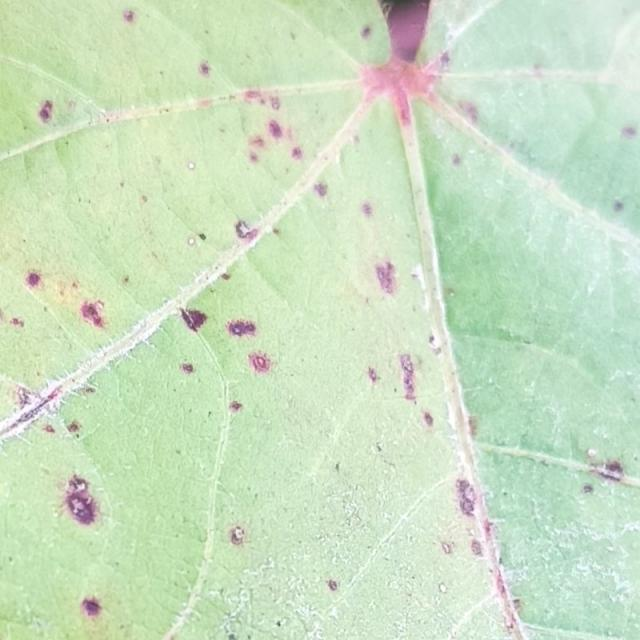Bacterial_Blight: (0, 0, 389, 422), (244, 107, 300, 167), (62, 477, 101, 528), (34, 95, 82, 132), (367, 255, 403, 297), (398, 353, 418, 402), (455, 478, 478, 517), (79, 300, 107, 330), (179, 307, 208, 333), (0, 306, 27, 332), (247, 349, 273, 374), (227, 319, 257, 338), (457, 100, 479, 123), (66, 474, 90, 495), (234, 219, 256, 241), (24, 268, 44, 289), (228, 525, 248, 546), (37, 100, 54, 124), (16, 387, 34, 409), (82, 598, 102, 617), (605, 460, 625, 478), (397, 104, 412, 126), (248, 135, 266, 152), (313, 181, 328, 198), (46, 387, 61, 402), (66, 420, 82, 434), (468, 414, 478, 436), (367, 367, 379, 384), (470, 539, 482, 556), (196, 97, 213, 109), (122, 9, 136, 23), (198, 61, 211, 76), (361, 201, 373, 217), (621, 126, 637, 138), (439, 51, 451, 67), (423, 411, 434, 428), (512, 598, 523, 615), (228, 400, 243, 412), (613, 198, 625, 212), (532, 63, 544, 77), (269, 95, 280, 110), (326, 579, 338, 591), (181, 363, 194, 374), (361, 25, 372, 38), (248, 151, 259, 164), (441, 542, 452, 555), (42, 424, 56, 434), (582, 483, 594, 494), (451, 154, 461, 166), (588, 448, 597, 458), (220, 272, 231, 280), (376, 442, 383, 452), (198, 233, 206, 241), (141, 195, 148, 203), (103, 115, 110, 123), (228, 636, 237, 640)
Cotton: (0, 98, 511, 639), (413, 0, 639, 639)
